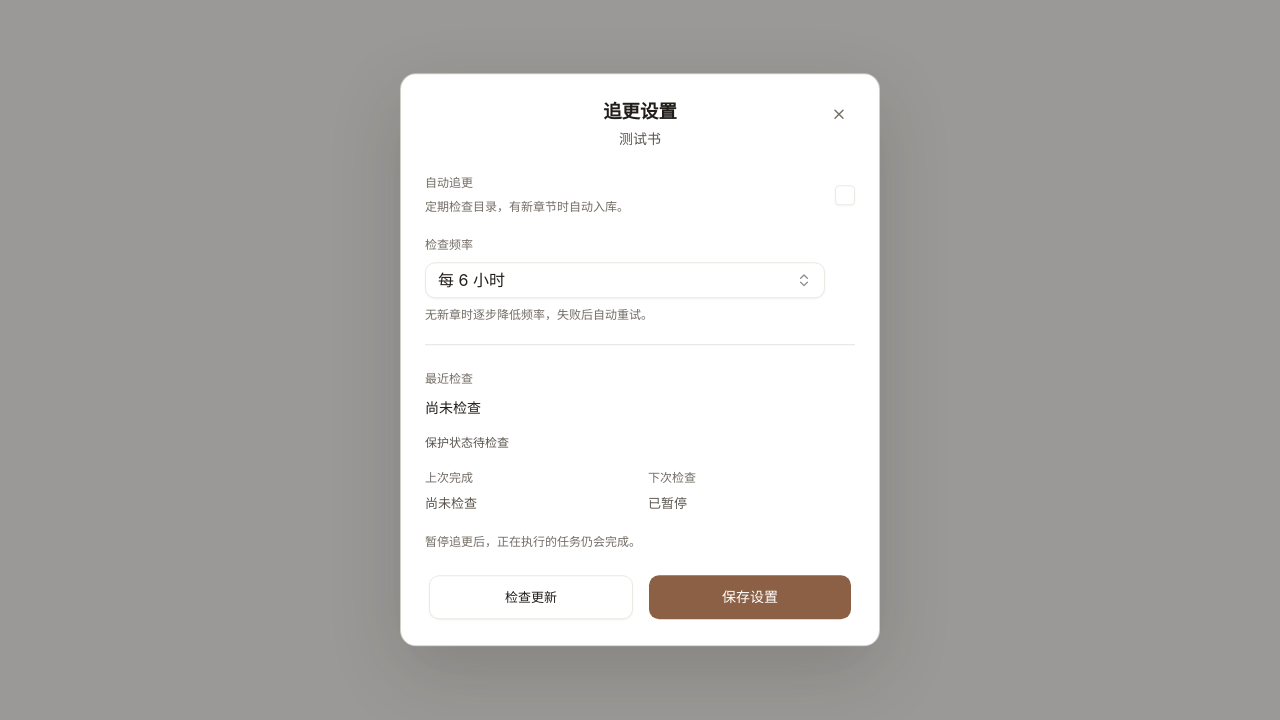
Test: 手动更新出错时显示服务端原因并允许重试
Expected: the checkbox named "自动追更" is shown, [835,186,855,206]
What coordinates should you click on to do the following:
click the button "检查更新"
I would click on:
 (531, 598)
Its box is [429,576,633,620].
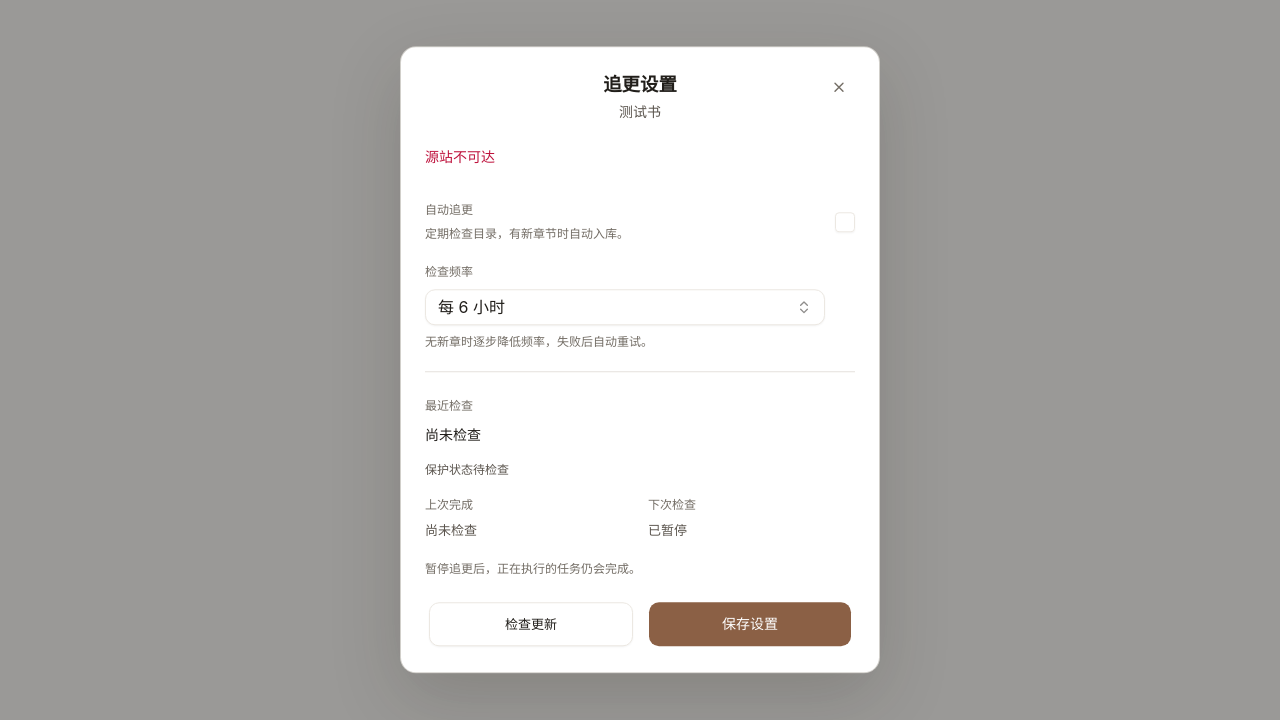
Expected: the button "检查更新" is enabled, [429,603,633,647]
Result: the message "源站不可达" is shown at [425,149,495,166]
